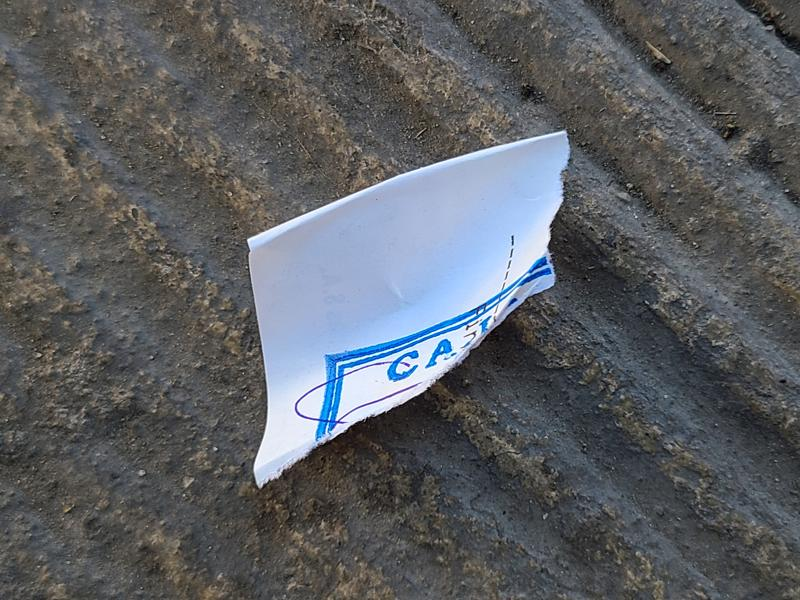papel: (245, 132, 571, 488)
